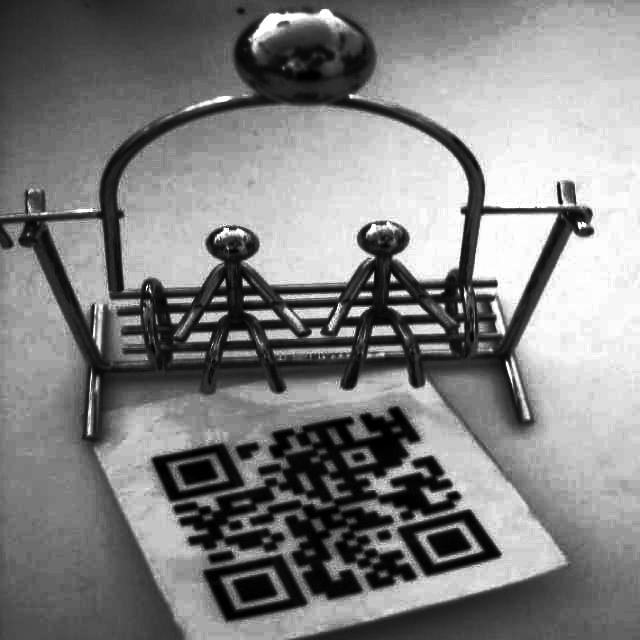qr_code: (153, 407, 500, 620)
